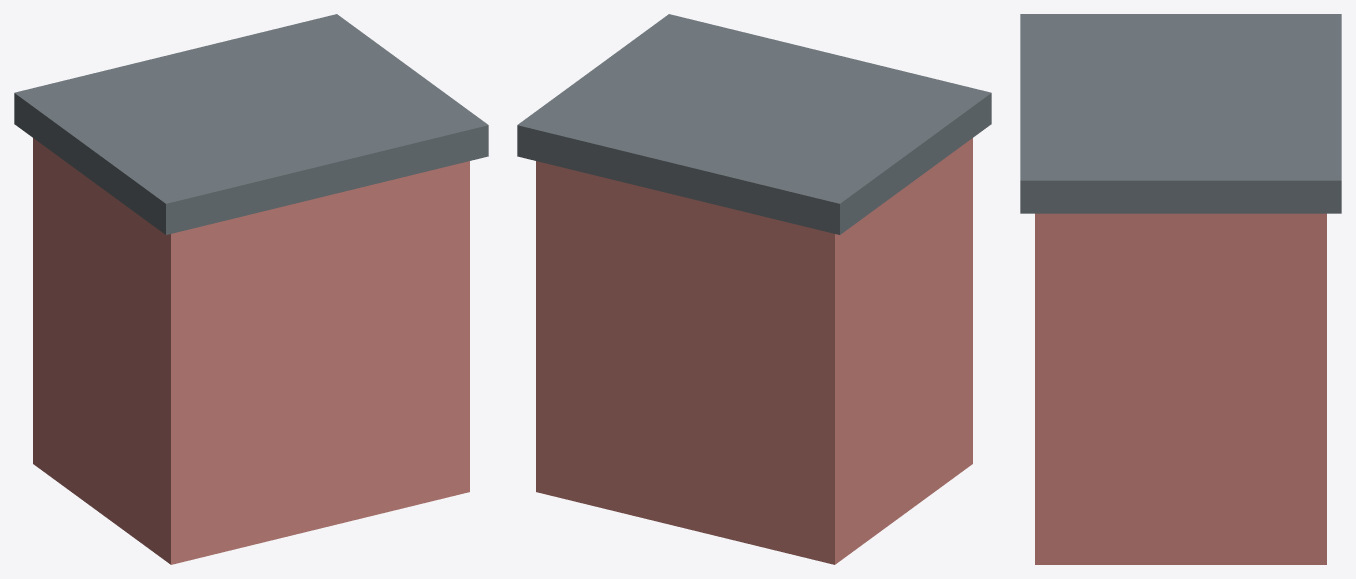
Rendered from waste_bin_lod0.glb.
The picture shows the model from 3 angles, left to right: view 1: azimuth 30°, elevation 25°; view 2: azimuth 150°, elevation 25°; view 3: azimuth 270°, elevation 25°; orthographic projection. The views are drawn at different scales.
Parts seen in each view (by area): view 1: waste-node-0, waste-node-1; view 2: waste-node-0, waste-node-1; view 3: waste-node-0, waste-node-1.
Part boxes in pixels (bbox=[...]): waste-node-0: bbox=[33, 138, 469, 564]; waste-node-1: bbox=[14, 14, 488, 234]; waste-node-0: bbox=[536, 138, 972, 564]; waste-node-1: bbox=[517, 14, 991, 234]; waste-node-0: bbox=[1035, 213, 1326, 564]; waste-node-1: bbox=[1020, 14, 1341, 213].
Bounding box in the file's own units: 1.08 × 1.18 × 0.88.
